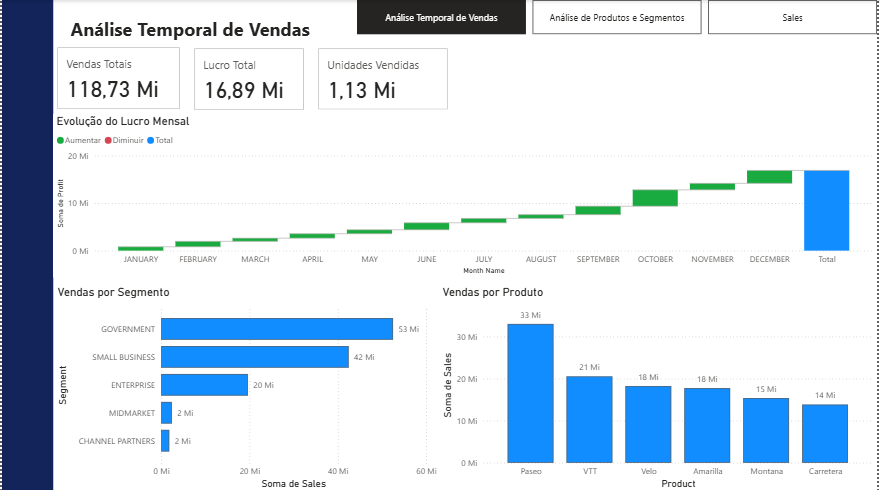

Layout of this report page (visuals, bound fields, positions):
{"tool":"powerbi","page":{"name":"Análise Temporal de Vendas","canvas":[1280,720],"ordinal":13},"visuals":[{"type":"shape","box":[0,0,75,720],"z":0},{"type":"textbox","box":[94.9,19.6,363.4,45.8],"z":1000},{"type":"cardVisual","title":"KPI Vendas Totais","fields":{"Data":["Sum(financials. Sales)"]},"box":[75.4,64.6,189.2,100],"z":2000},{"type":"cardVisual","title":"KPI Lucro Total","fields":{"Data":["Sum(financials.Profit)"]},"box":[276.6,65.9,170,100],"z":3000},{"type":"cardVisual","title":"KPI Unidades Vendidas","fields":{"Data":["Sum(financials.Units Sold)"]},"box":[458.3,65.5,199.7,99.8],"z":4000},{"type":"clusteredBarChart","title":"Vendas por Segmento","fields":{"Category":["financials.Segment"],"Y":["Sum(financials. Sales)"]},"box":[75.4,416.9,564.6,303.1],"z":5000},{"type":"clusteredColumnChart","title":"Vendas por Produto","fields":{"Category":["financials.Product"],"Y":["Sum(financials. Sales)"]},"box":[640,416.9,640,303.1],"z":7000},{"type":"waterfallChart","title":"Evolução do Lucro Mensal","fields":{"Category":["financials.Month Name"],"Y":["Sum(financials.Profit)"]},"box":[75.3,167,1204.7,239],"z":11000},{"type":"pageNavigator","box":[518.9,0,761.1,50.7],"z":12000}]}

Visuals, with their boxes in screenshot pixels (x1, y1, x2, y2), scaled from the page's 1280x720 canvas onto the 880x490 screenshot:
shape: pyautogui.locateOnScreen(0, 0, 52, 489)
textbox: pyautogui.locateOnScreen(65, 13, 315, 45)
"KPI Vendas Totais" cardVisual: pyautogui.locateOnScreen(52, 44, 182, 112)
"KPI Lucro Total" cardVisual: pyautogui.locateOnScreen(190, 45, 307, 113)
"KPI Unidades Vendidas" cardVisual: pyautogui.locateOnScreen(315, 45, 452, 112)
"Vendas por Segmento" clusteredBarChart: pyautogui.locateOnScreen(52, 284, 440, 489)
"Vendas por Produto" clusteredColumnChart: pyautogui.locateOnScreen(440, 284, 879, 489)
"Evolução do Lucro Mensal" waterfallChart: pyautogui.locateOnScreen(52, 114, 879, 276)
pageNavigator: pyautogui.locateOnScreen(357, 0, 879, 35)
